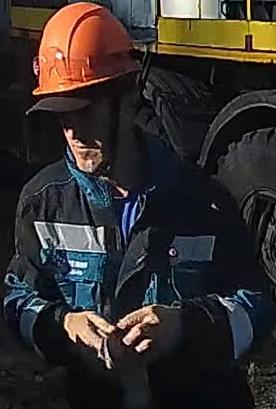helmet: (32, 2, 147, 95)
vest: (5, 146, 254, 305)
